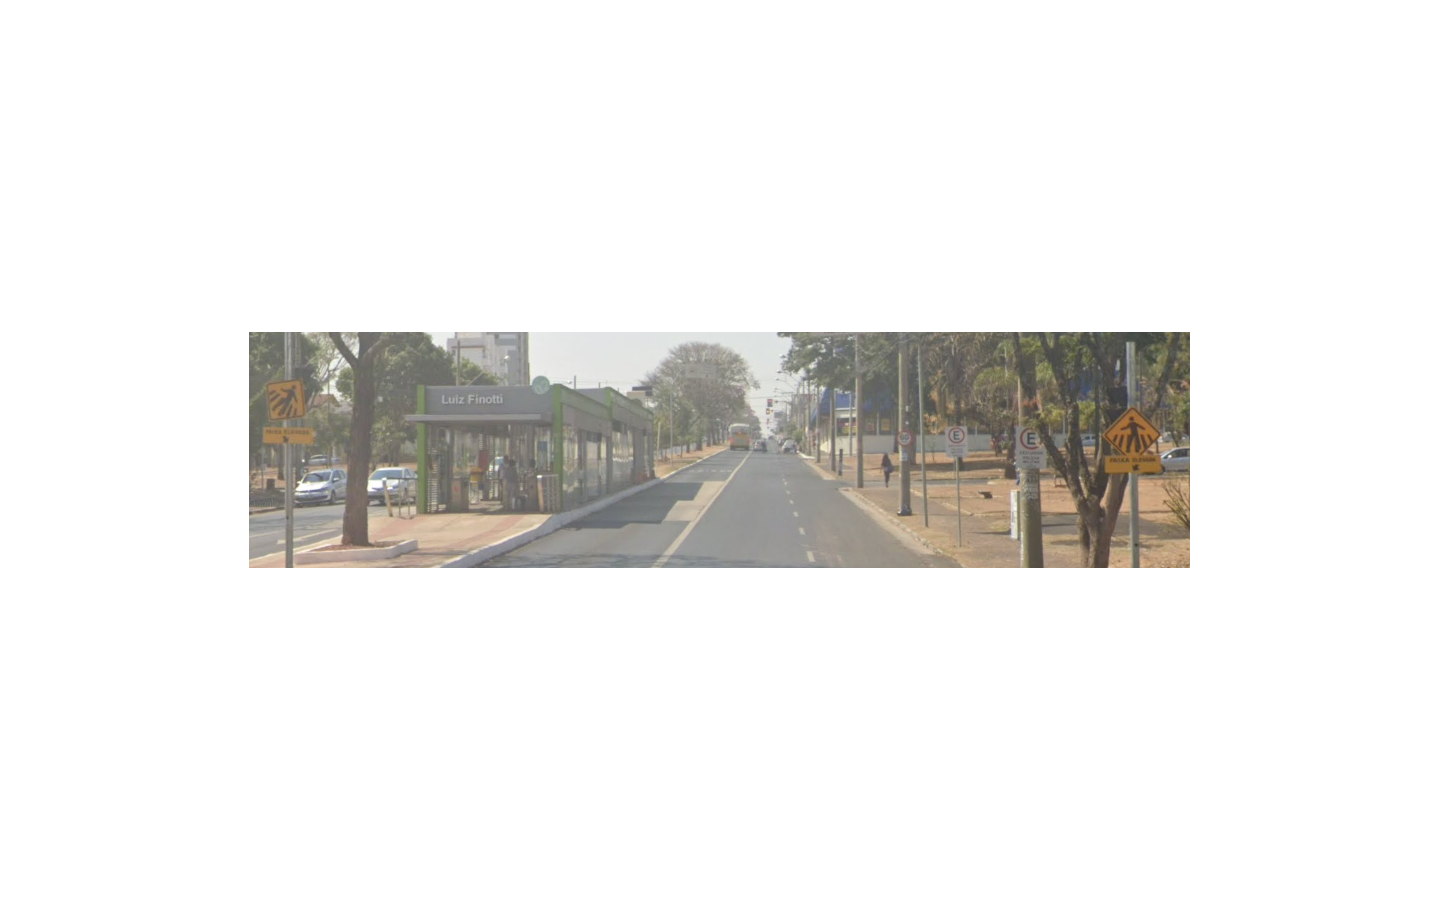telev: (1102, 406, 1162, 473), (262, 378, 311, 445)
